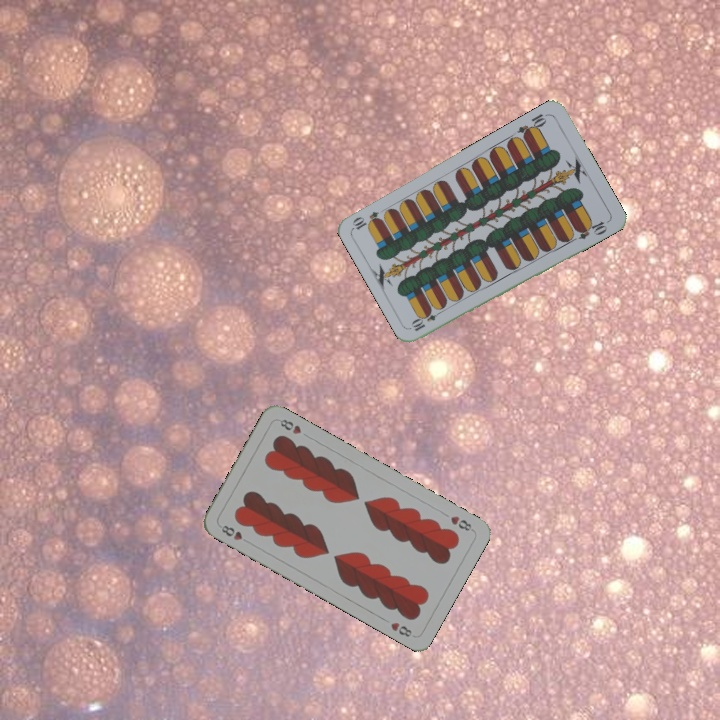E10: (514, 109, 551, 141), (408, 305, 446, 334)
H8: (217, 521, 253, 546), (446, 512, 476, 534)
